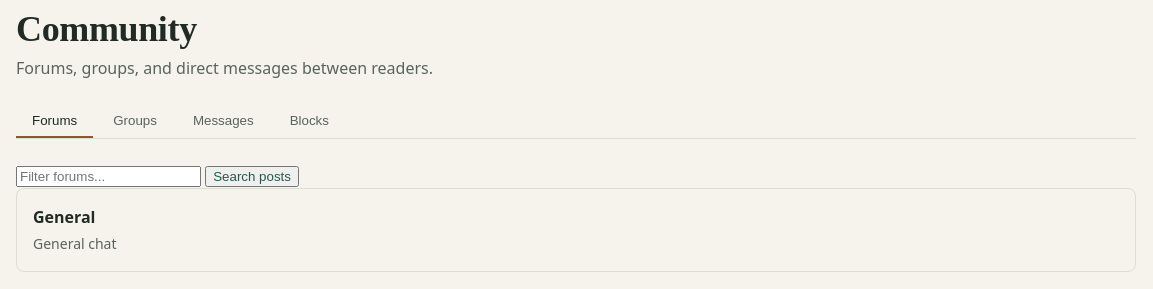
Scenario: Community page › switches to groups tab
Expected: the text "General" is shown, [33,206,96,228]
Click the tab "Groups": (135, 121) [97,105,173,138]
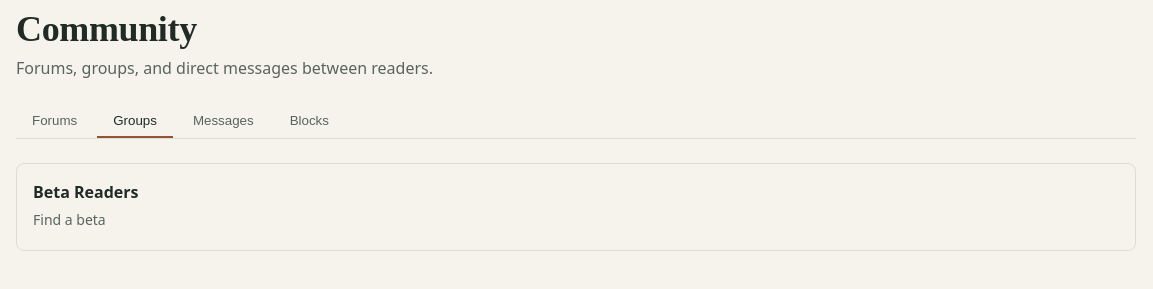
Now the text "Beta Readers" is shown, box [33,181,138,203]
